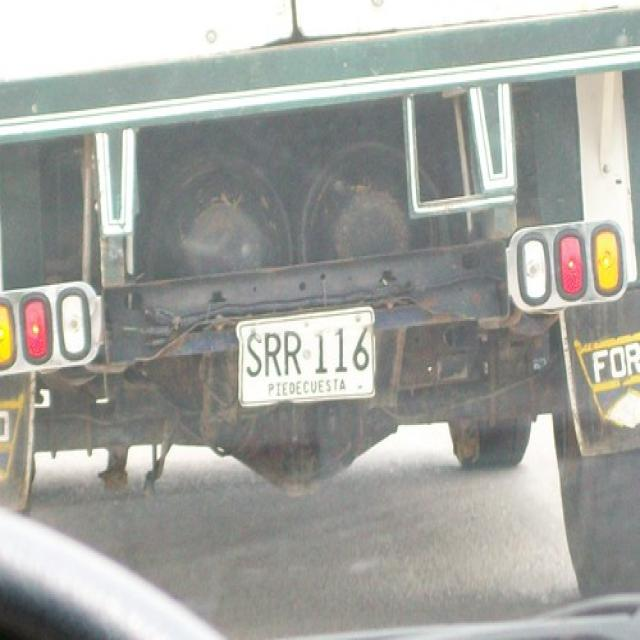placas: (239, 315, 371, 379)
